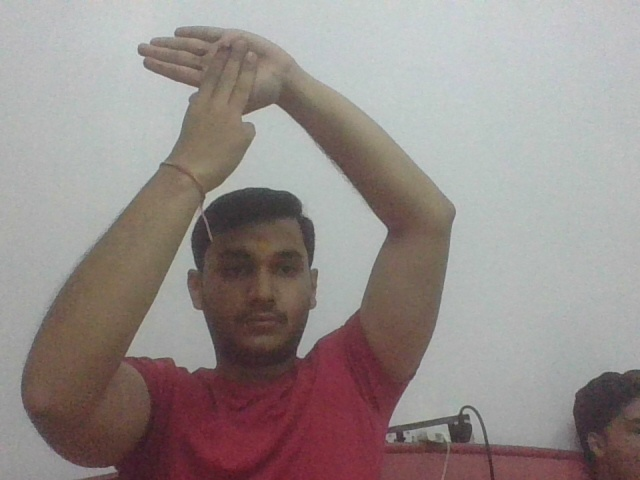M: (135, 23, 283, 158)
